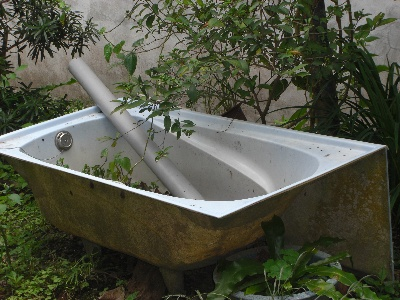tub: (1, 98, 388, 270)
